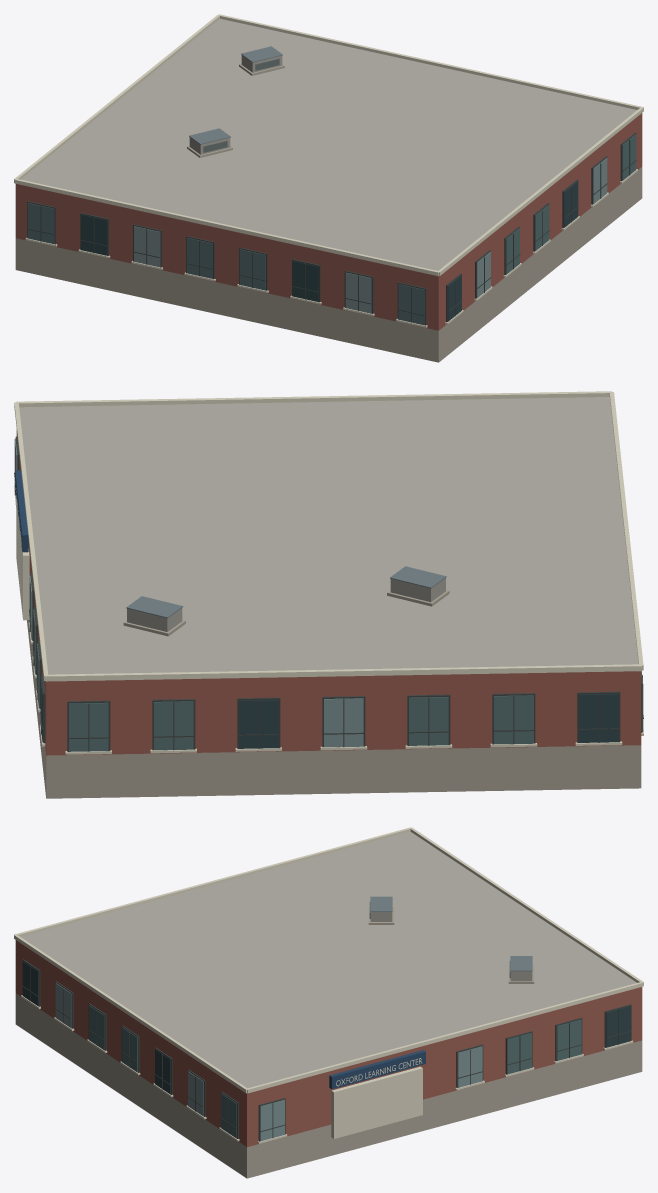
File: oxford-learning-center.glb
The picture shows the model from 3 angles, top to bottom: view 1: azimuth 30°, elevation 25°; view 2: azimuth 150°, elevation 25°; view 3: azimuth 270°, elevation 25°; orthographic projection. The views are drawn at different scales.
Visible parts, largest first — view 1: 264403534 | Roof, 264403534 | Facades, 264403534 | Shell and foundation; view 2: 264403534 | Roof, 264403534 | Facades, 264403534 | Shell and foundation; view 3: 264403534 | Roof, 264403534 | Facades, 264403534 | Shell and foundation.
Boxes of the visible parts, x1,y1,x2,y2 form: 264403534 | Roof: [15, 18, 642, 362]; 264403534 | Facades: [14, 14, 643, 327]; 264403534 | Shell and foundation: [15, 113, 642, 330]; 264403534 | Roof: [19, 397, 641, 798]; 264403534 | Facades: [14, 391, 643, 754]; 264403534 | Shell and foundation: [16, 430, 641, 755]; 264403534 | Roof: [15, 831, 642, 1178]; 264403534 | Facades: [14, 827, 643, 1143]; 264403534 | Shell and foundation: [15, 940, 642, 1147].
Size of the model in its own units: 35.51 by 6.28 by 36.
